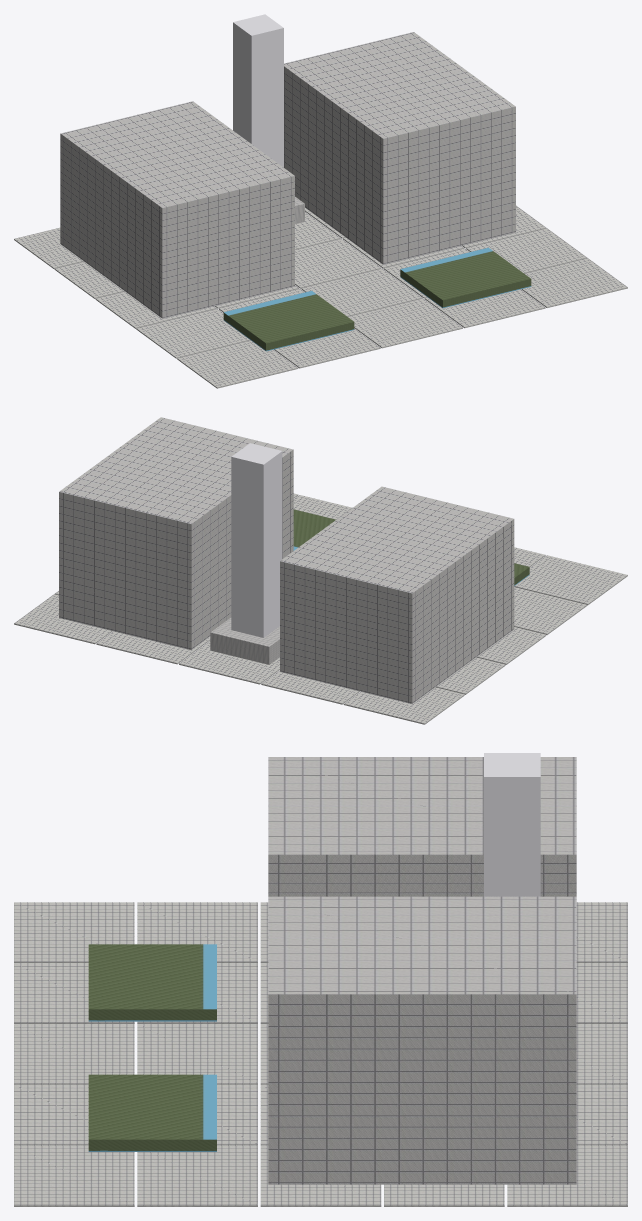
The picture shows the model from 3 angles, top to bottom: view 1: azimuth 30°, elevation 25°; view 2: azimuth 150°, elevation 25°; view 3: azimuth 270°, elevation 25°; orthographic projection. The views are drawn at different scales.
Visible parts, largest first — view 1: 28185_B43_Incheon_Landing_Memorial_Hall; view 2: 28185_B43_Incheon_Landing_Memorial_Hall; view 3: 28185_B43_Incheon_Landing_Memorial_Hall.
Boxes of the visible parts, x1,y1,x2,y2 form: 28185_B43_Incheon_Landing_Memorial_Hall: (14, 14, 627, 388); 28185_B43_Incheon_Landing_Memorial_Hall: (14, 417, 627, 724); 28185_B43_Incheon_Landing_Memorial_Hall: (14, 753, 627, 1206).
Bounding box in the file's own units: 55.8 × 25 × 47.8.
Materials: 1 (1 with a texture image).
